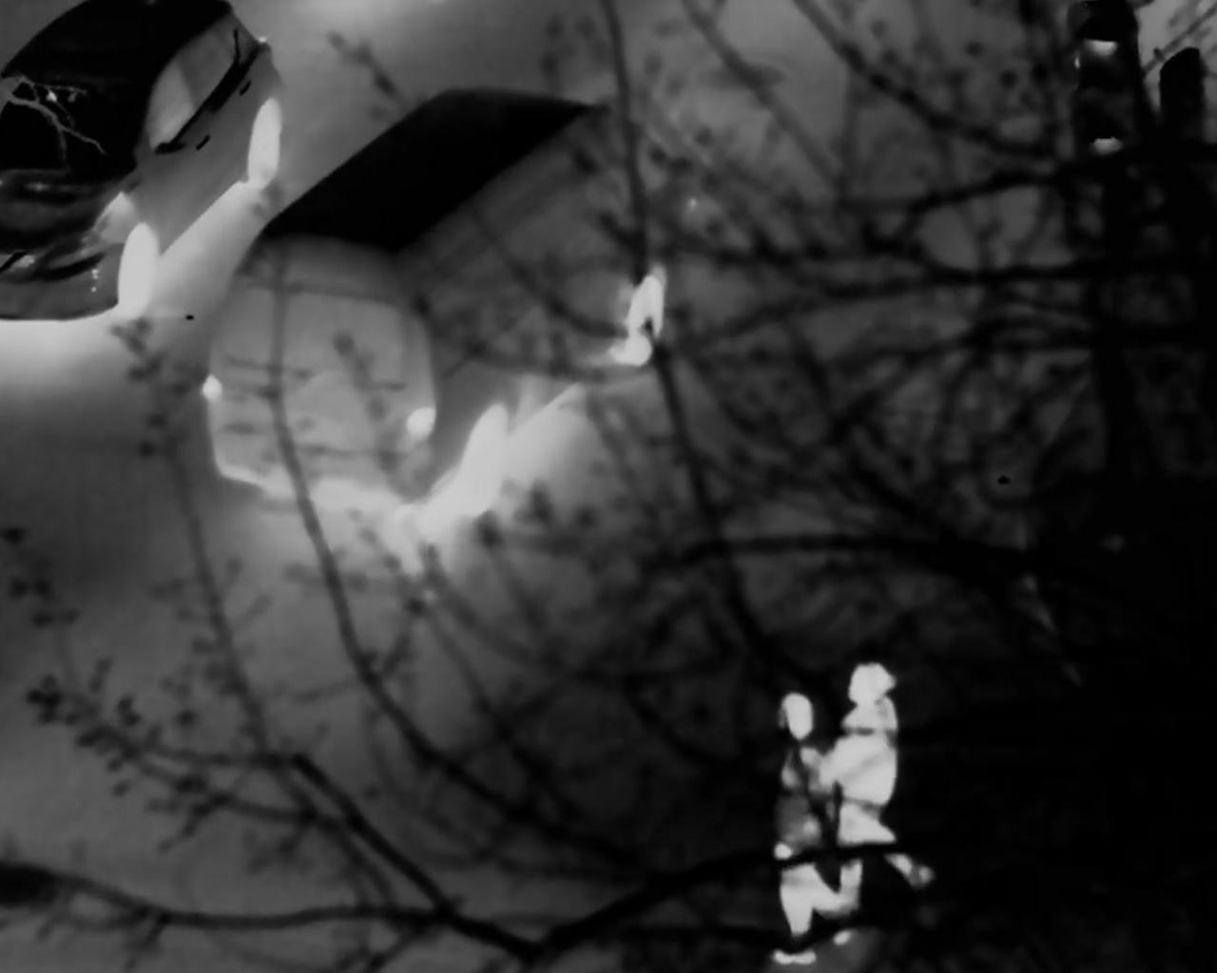person: (833, 662, 939, 906), (763, 693, 856, 965)
